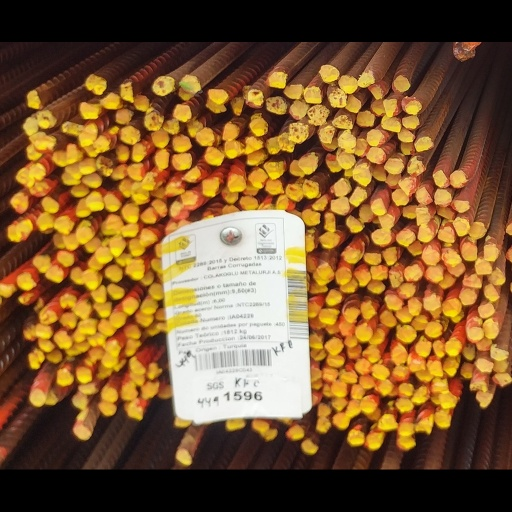dipstick: (312, 263, 335, 291), (85, 38, 107, 64), (152, 40, 175, 64), (352, 144, 371, 172), (338, 105, 357, 133), (101, 206, 123, 230), (179, 38, 201, 62), (126, 259, 146, 285), (307, 75, 329, 98), (137, 221, 157, 246), (289, 95, 307, 122), (144, 83, 164, 107), (170, 189, 190, 213), (204, 124, 224, 148), (121, 192, 140, 217), (79, 71, 101, 92), (266, 64, 287, 86), (264, 142, 285, 164), (395, 223, 416, 245), (150, 103, 170, 126), (172, 131, 192, 154), (16, 274, 36, 297), (92, 308, 112, 331), (131, 171, 151, 194), (86, 178, 105, 202), (248, 151, 267, 175), (332, 161, 351, 185), (353, 269, 371, 294), (11, 180, 28, 206), (101, 60, 122, 81), (89, 292, 110, 313), (396, 338, 417, 359), (36, 81, 56, 103), (120, 100, 140, 122), (127, 144, 147, 166), (32, 255, 52, 277), (97, 331, 117, 353), (45, 266, 64, 289), (126, 431, 145, 454), (362, 362, 381, 385), (196, 101, 214, 125), (277, 108, 295, 132), (415, 353, 433, 377), (34, 111, 55, 131), (72, 456, 92, 477), (265, 35, 286, 55), (243, 111, 263, 132), (324, 353, 344, 374), (442, 306, 462, 327), (298, 137, 318, 158), (319, 27, 339, 48), (173, 74, 192, 96), (172, 110, 191, 132), (81, 156, 103, 175), (72, 309, 91, 331), (338, 39, 357, 61), (153, 126, 169, 152), (129, 121, 147, 144), (76, 220, 94, 243), (120, 407, 138, 430), (347, 462, 365, 485), (302, 164, 320, 187), (246, 56, 264, 79), (22, 89, 39, 113), (10, 216, 27, 240), (413, 410, 430, 434), (319, 318, 339, 338), (396, 287, 416, 307), (320, 226, 340, 246), (342, 245, 362, 265), (79, 138, 98, 159), (53, 346, 72, 367), (128, 377, 147, 398), (228, 158, 247, 179), (334, 269, 353, 290), (403, 265, 422, 286), (346, 207, 365, 228), (371, 223, 392, 242), (365, 126, 386, 145), (391, 174, 410, 195), (437, 419, 458, 438), (41, 184, 59, 206), (36, 203, 54, 225), (55, 207, 73, 229), (56, 390, 74, 412), (141, 405, 159, 427), (224, 116, 242, 138), (221, 95, 239, 117), (290, 70, 308, 92), (328, 56, 346, 78), (26, 57, 43, 80), (105, 265, 122, 288), (202, 162, 219, 185), (360, 423, 377, 446), (483, 332, 500, 355), (162, 91, 182, 110), (249, 91, 268, 111), (265, 162, 284, 182), (134, 322, 153, 342), (378, 445, 397, 465), (395, 316, 414, 336), (339, 282, 359, 301), (288, 73, 308, 92), (381, 88, 401, 107), (402, 67, 421, 87), (316, 101, 335, 121), (175, 486, 193, 507), (221, 173, 239, 194), (300, 474, 318, 495), (355, 338, 373, 359), (331, 186, 349, 207), (417, 219, 435, 240), (438, 220, 456, 241), (469, 215, 487, 236), (366, 104, 384, 125), (449, 153, 467, 174), (434, 176, 452, 197), (104, 181, 121, 203), (129, 235, 146, 257), (122, 305, 139, 327), (72, 418, 89, 440), (360, 309, 377, 331), (453, 210, 470, 232), (433, 152, 450, 174), (326, 133, 342, 156), (38, 319, 57, 338), (285, 457, 304, 476), (395, 425, 414, 444), (371, 385, 390, 404), (301, 200, 320, 219), (474, 378, 493, 397), (425, 335, 444, 354), (356, 82, 375, 101), (414, 174, 433, 193), (29, 145, 47, 165), (56, 249, 74, 269), (208, 55, 228, 73), (378, 203, 396, 223), (447, 262, 465, 282), (283, 50, 303, 68), (304, 53, 322, 73), (289, 141, 307, 161), (407, 140, 425, 160), (119, 50, 136, 71), (75, 388, 92, 409), (29, 416, 46, 437), (332, 443, 349, 464), (365, 467, 382, 488), (286, 170, 303, 191), (482, 242, 499, 263), (109, 234, 125, 256), (391, 364, 407, 386), (382, 245, 398, 267), (106, 289, 124, 308), (35, 336, 53, 355), (45, 366, 63, 385), (98, 429, 117, 447), (251, 450, 270, 468), (330, 422, 348, 441), (326, 372, 344, 391), (354, 379, 372, 398), (384, 301, 402, 320), (370, 266, 388, 285), (423, 303, 441, 322), (385, 139, 403, 158), (52, 129, 69, 149), (112, 145, 129, 165), (95, 245, 112, 265), (396, 472, 416, 489), (393, 386, 410, 406), (476, 417, 493, 437), (422, 248, 439, 268), (425, 268, 442, 288), (461, 241, 478, 261), (475, 258, 492, 278), (488, 270, 505, 290), (492, 396, 512, 413), (134, 62, 150, 83), (148, 288, 164, 309), (101, 411, 117, 432), (325, 295, 341, 316), (380, 320, 396, 341), (70, 269, 85, 291), (407, 305, 422, 327), (360, 194, 375, 216), (141, 307, 159, 325), (37, 353, 55, 371), (367, 283, 385, 301), (458, 296, 476, 314), (443, 250, 461, 268), (116, 79, 133, 98), (124, 337, 141, 356), (434, 443, 451, 462), (26, 122, 42, 142), (93, 111, 109, 131), (377, 403, 393, 423), (322, 389, 338, 409), (343, 317, 359, 337), (394, 39, 410, 59), (401, 89, 421, 105), (266, 113, 281, 134), (315, 449, 330, 470), (308, 310, 323, 331), (350, 173, 363, 197), (478, 313, 495, 331), (467, 340, 484, 358), (415, 113, 433, 130), (141, 198, 157, 217), (104, 357, 120, 376), (369, 342, 385, 361), (312, 183, 328, 202), (372, 188, 388, 207), (429, 382, 445, 401), (370, 69, 386, 88), (414, 198, 430, 217), (115, 123, 129, 144), (432, 356, 446, 377), (346, 63, 360, 84), (364, 250, 381, 267), (240, 184, 257, 201), (398, 455, 416, 471), (490, 362, 506, 380), (451, 188, 470, 203), (359, 398, 375, 415), (398, 103, 415, 119), (399, 118, 415, 135), (350, 409, 365, 427), (398, 407, 413, 425), (71, 171, 90, 185), (226, 450, 245, 464), (331, 406, 347, 422), (324, 205, 336, 226), (460, 383, 474, 401), (358, 38, 373, 54), (317, 432, 331, 448), (446, 358, 460, 374), (470, 407, 486, 420), (305, 231, 315, 251), (343, 352, 357, 365)
